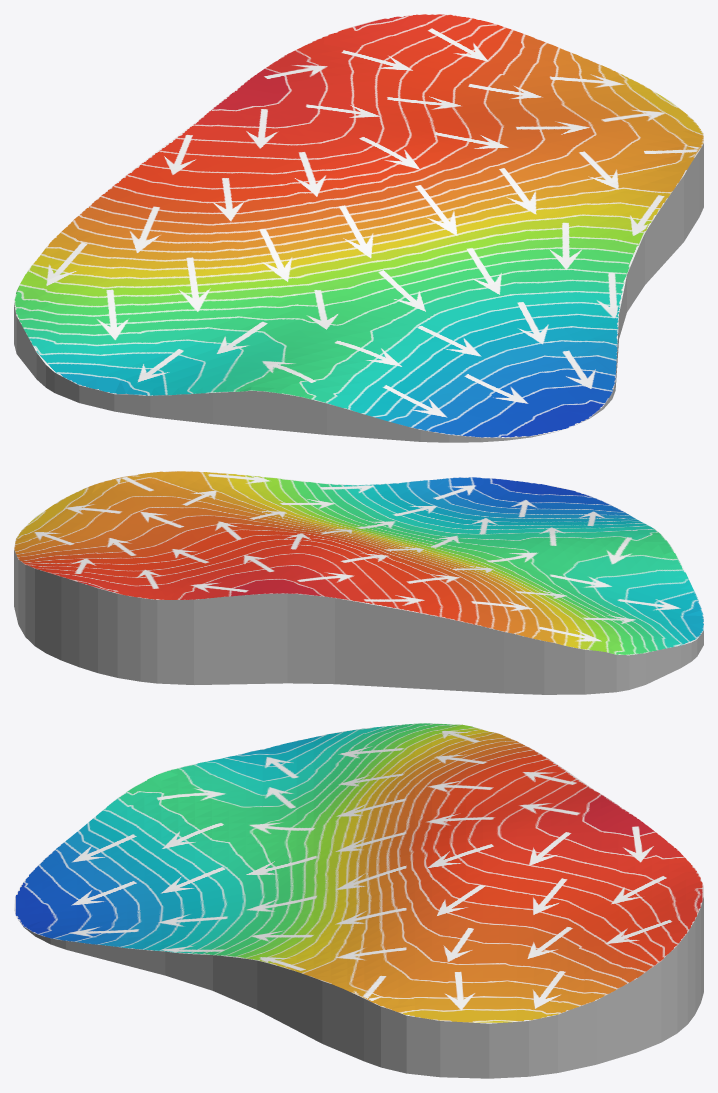
The picture shows the model from 3 angles, top to bottom: view 1: azimuth 30°, elevation 25°; view 2: azimuth 150°, elevation 25°; view 3: azimuth 270°, elevation 25°; orthographic projection. The views are drawn at different scales.
Size of the model in its own units: 4.32 by 0.6281 by 3.87.
Materials: 2 (1 with a texture image).
